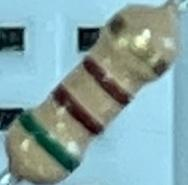Brown: (79, 51, 136, 110), (49, 79, 106, 136)
Green: (15, 108, 83, 176)
Side-Gold: (102, 9, 172, 79)
